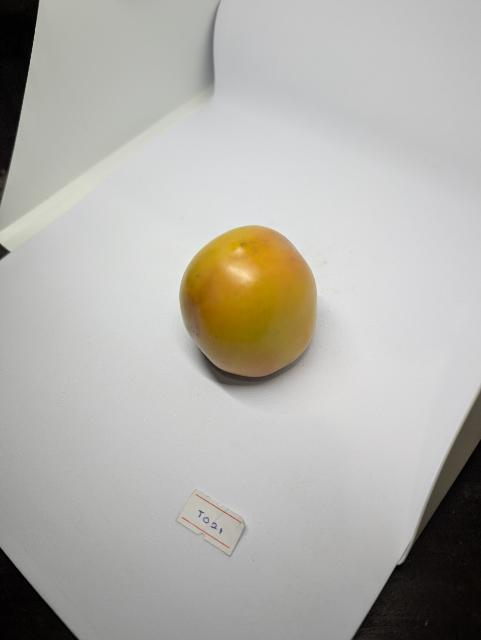turning: (169, 220, 340, 387)
